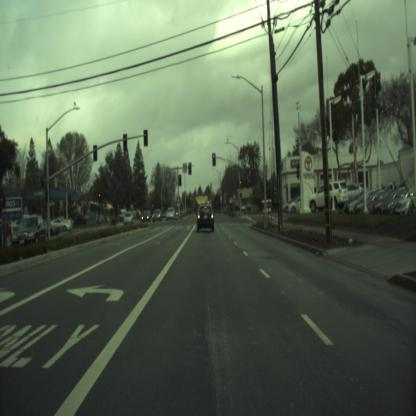Red: (212, 152, 216, 166), (239, 180, 240, 188)
RedLeft: (178, 174, 182, 185), (188, 162, 191, 174), (99, 192, 100, 202)
